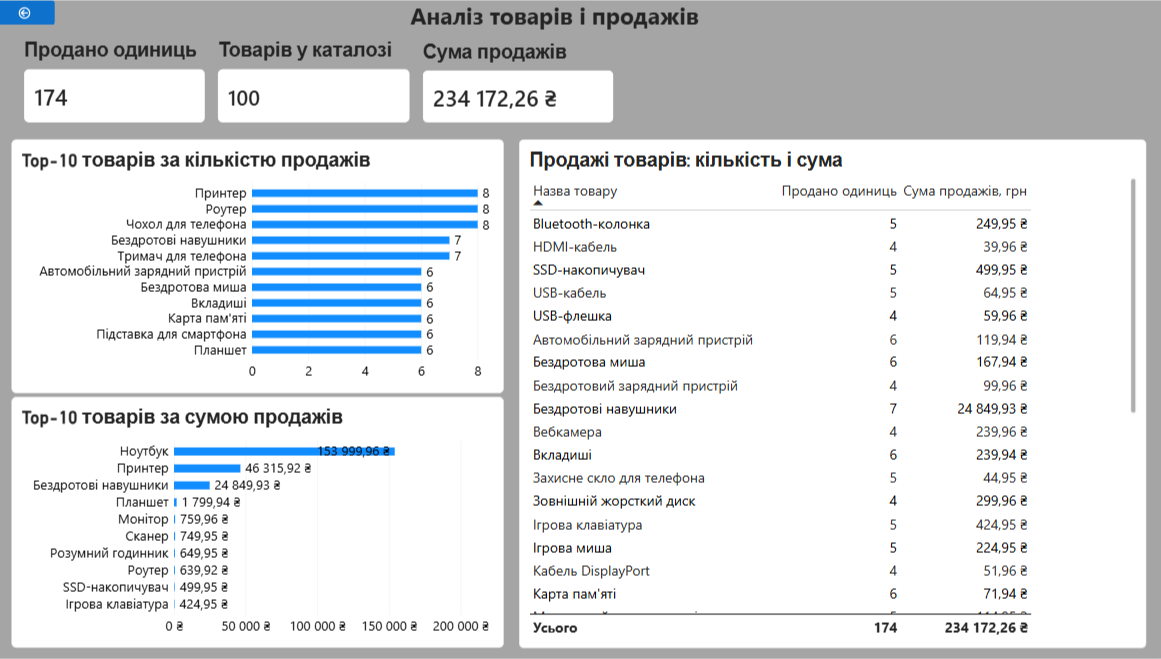

This screenshot's page, from the dashboard's own definition file:
{"tool":"powerbi","page":{"name":"Аналіз товарів і продажів","canvas":[1920,1080],"ordinal":2},"visuals":[{"type":"cardVisual","title":"Продано одиниць ","fields":{"Data":["Sum(order_items.quantity)"]},"box":[49.2,63.6,297.5,137.5],"z":0},{"type":"textbox","box":[683.4,0,636,279.9],"z":1000},{"type":"cardVisual","title":"Товарів у каталозі","fields":{"Data":["Count(products.product_id)"]},"box":[367.3,63.6,316,137.5],"z":2000},{"type":"cardVisual","title":"Сума продажів","fields":{"Data":["products.Загальна сума замовлень"]},"box":[703.7,65.7,313.9,135.4],"z":3000},{"type":"clusteredBarChart","title":"Top-10 товарів за кількістю продажів","fields":{"Category":["products.product_name"],"Y":["Sum(order_items.quantity)"]},"box":[28.7,227.7,808.4,416.5],"z":4000},{"type":"clusteredBarChart","title":"Top-10 товарів за сумою продажів","fields":{"Category":["products.product_name"],"Y":["products.Загальна сума замовлень"]},"box":[28.7,650.4,808.4,412.4],"z":5000},{"type":"tableEx","title":"Продажі товарів: кількість і сума","fields":{"Values":["products.product_name","Sum(order_items.quantity)","products.Загальна сума замовлень"]},"box":[861.7,227.7,1030,835.1],"z":6000},{"type":"actionButton","box":[0,0,100,40],"z":7000}]}

Visuals, with their boxes in screenshot pixels (x1, y1, x2, y2), scaled from the page's 1920x1080 canvas onto the 1161x659 screenshot:
"Продано одиниць " cardVisual: {"left": 30, "top": 39, "right": 210, "bottom": 123}
textbox: {"left": 413, "top": 0, "right": 798, "bottom": 171}
"Товарів у каталозі" cardVisual: {"left": 222, "top": 39, "right": 413, "bottom": 123}
"Сума продажів" cardVisual: {"left": 426, "top": 40, "right": 615, "bottom": 123}
"Top-10 товарів за кількістю продажів" clusteredBarChart: {"left": 17, "top": 139, "right": 506, "bottom": 393}
"Top-10 товарів за сумою продажів" clusteredBarChart: {"left": 17, "top": 397, "right": 506, "bottom": 649}
"Продажі товарів: кількість і сума" tableEx: {"left": 521, "top": 139, "right": 1144, "bottom": 649}
actionButton: {"left": 0, "top": 0, "right": 60, "bottom": 24}
